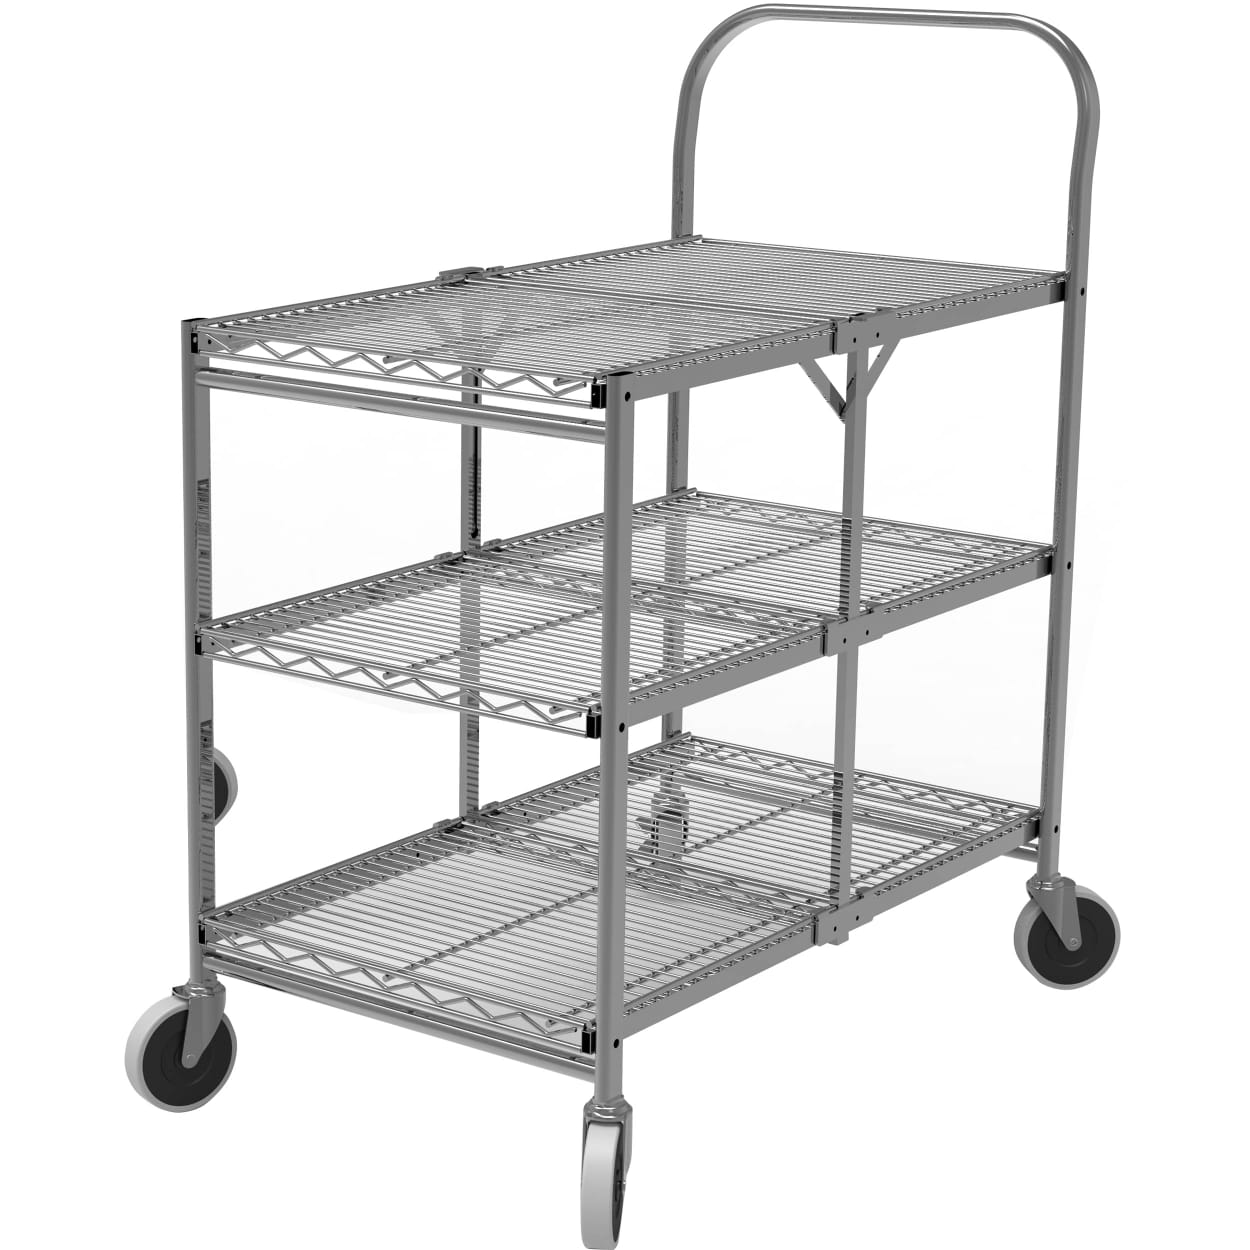Carts: (122, 3, 1128, 1250)
